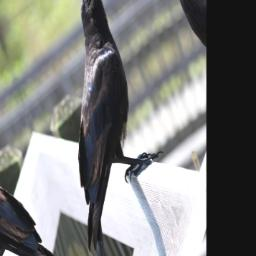Crow: (12, 0, 182, 256)
